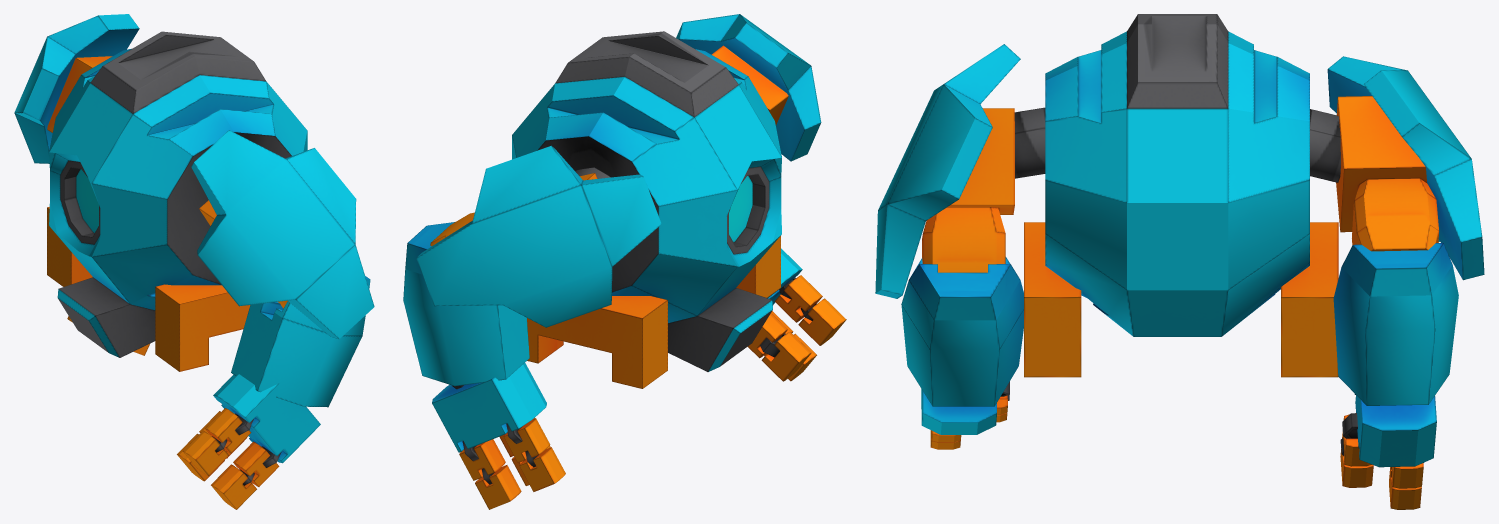
Rendered from Body_Idle21.obj.
3 views of the same model, side by side, from view 1: azimuth 30°, elevation 25°; view 2: azimuth 150°, elevation 25°; view 3: azimuth 270°, elevation 25° (orthographic). The views are drawn at different scales.
Parts seen in each view (by area): view 1: Plane001, Object006, Object008, Object007, Object002; view 2: Plane001, Object002, Object004, Object003, Object006, Object008; view 3: Plane001, Object002, Object006, Object003, Object007, Object004, Object008, Object005, Object001.
Boxes of the visible parts, <box> form: Plane001: <box>47,31,307,371</box>; Object006: <box>191,130,374,339</box>; Object008: <box>177,374,320,509</box>; Object007: <box>231,276,370,407</box>; Object002: <box>14,14,139,163</box>; Plane001: <box>512,31,781,388</box>; Object002: <box>416,145,661,327</box>; Object004: <box>432,363,565,509</box>; Object003: <box>403,222,529,386</box>; Object006: <box>676,14,821,161</box>; Object008: <box>747,248,846,381</box>; Plane001: <box>1024,14,1338,377</box>; Object002: <box>1327,56,1484,280</box>; Object006: <box>875,44,1020,298</box>; Object003: <box>1333,243,1458,405</box>; Object007: <box>901,257,1023,406</box>; Object004: <box>1340,394,1436,509</box>; Object008: <box>921,381,1009,449</box>; Object005: <box>1014,107,1045,178</box>; Object001: <box>1310,109,1340,182</box>.
Size of the model in its own units: 97.15 by 151 by 182.
